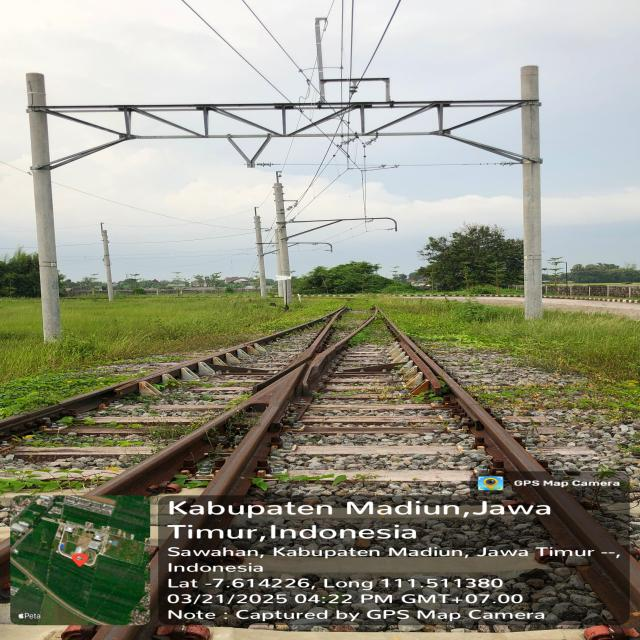rail-detection: (384, 318, 629, 611), (86, 307, 379, 499), (0, 343, 269, 430)
